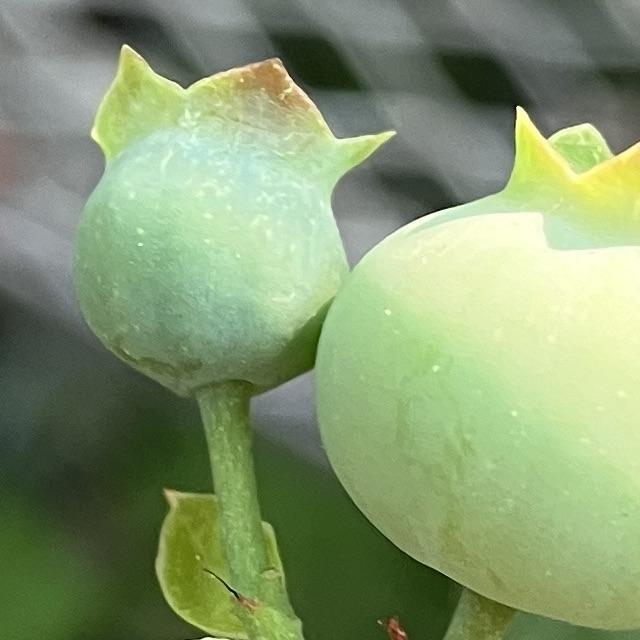Blueberries: (310, 104, 640, 634), (67, 39, 391, 401)
